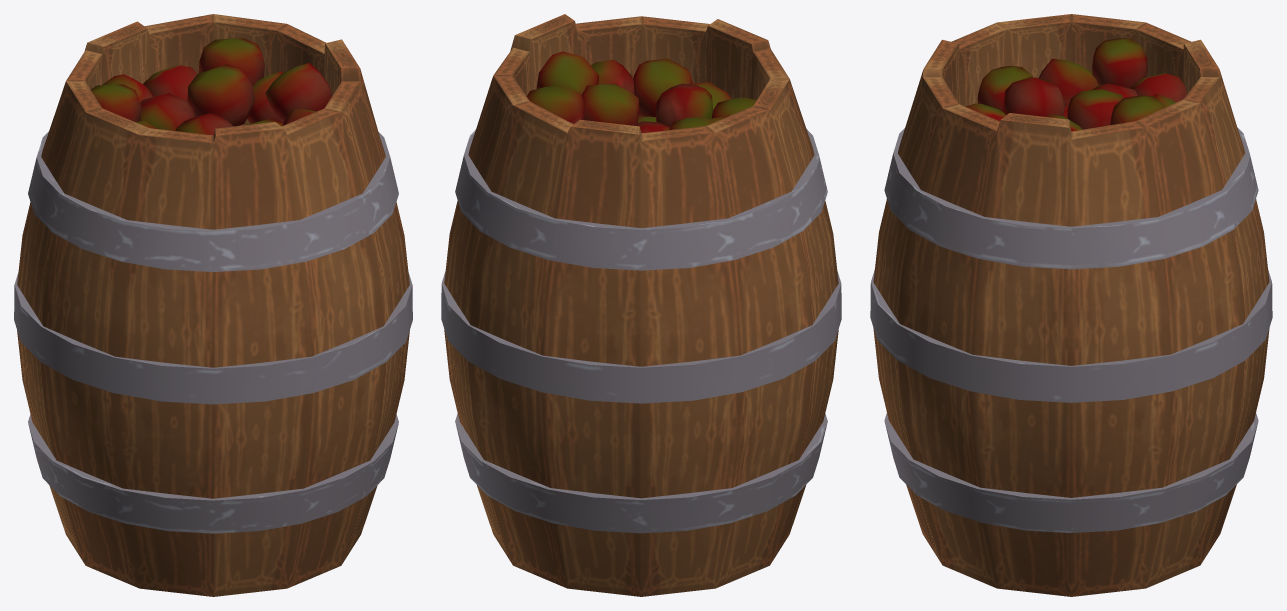
Rendered from Barrel_Apples.glb.
The picture shows the model from 3 angles, left to right: view 1: azimuth 30°, elevation 25°; view 2: azimuth 150°, elevation 25°; view 3: azimuth 270°, elevation 25°; orthographic projection.
Parts seen in each view (by area): view 1: Barrel_Apples; view 2: Barrel_Apples; view 3: Barrel_Apples.
Part boxes in pixels (x1,y1,x2,y2): Barrel_Apples: [14, 14, 412, 596]; Barrel_Apples: [441, 14, 841, 596]; Barrel_Apples: [870, 14, 1272, 596].
Size of the model in its own units: 0.698 by 0.898 by 0.698.
Materials: 3 (3 with a texture image).
